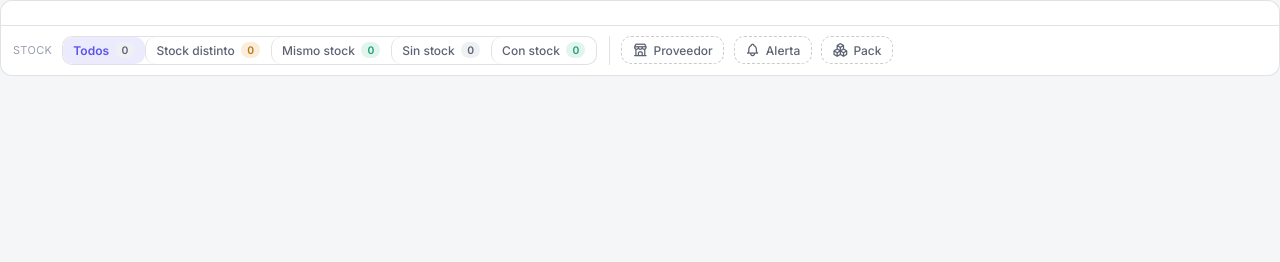
Test: ProductFiltersComponent › el menú de proveedor ofrece Todos, Sin proveedor y cada proveedor
Click the button with class "fbtn" showing "Proveedor".
click(673, 50)  # box [621,36,724,64]
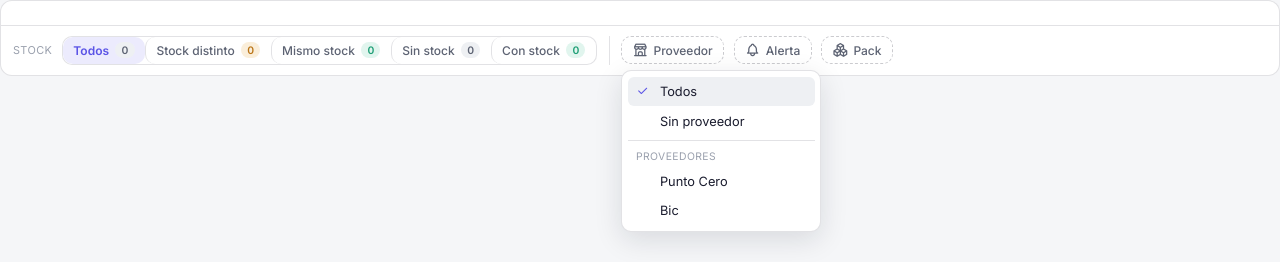
Click the menu item "Sin proveedor".
click(721, 121)  # box [628,106,815,136]
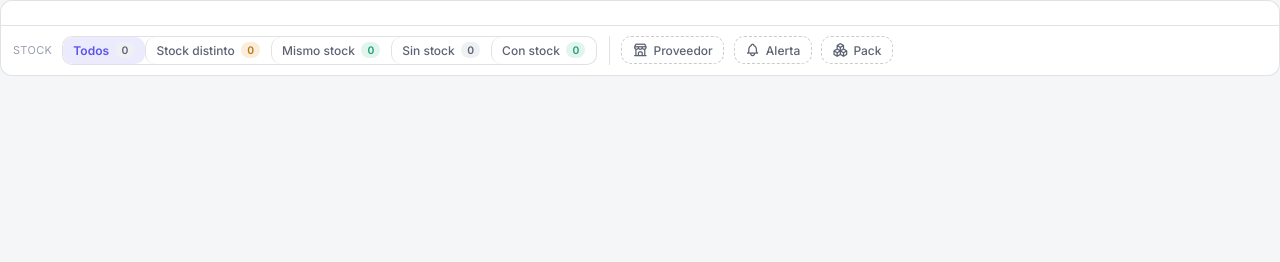
expect the menu is gone: met
